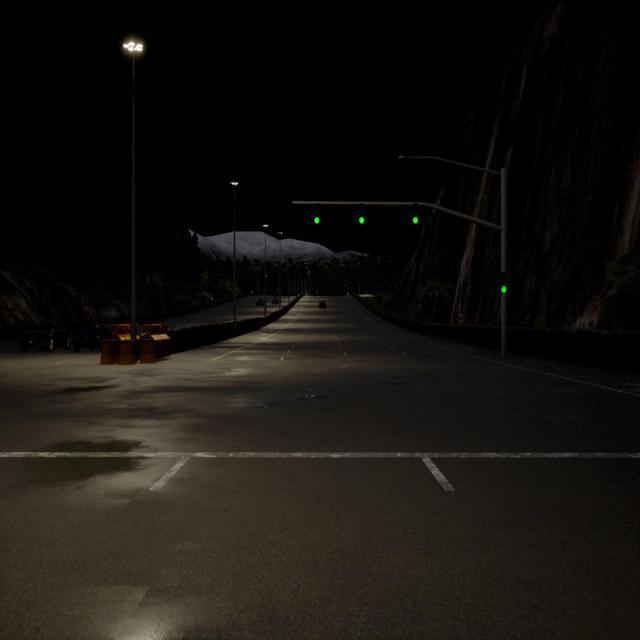Traffic_Signs: (457, 313, 464, 323), (210, 296, 213, 300)
Vehicle: (20, 318, 72, 353), (73, 324, 110, 353), (319, 300, 326, 310), (256, 299, 264, 307), (272, 298, 278, 305)
traffic_light: (501, 272, 507, 294), (314, 203, 320, 224), (358, 203, 364, 224), (413, 202, 418, 225)
